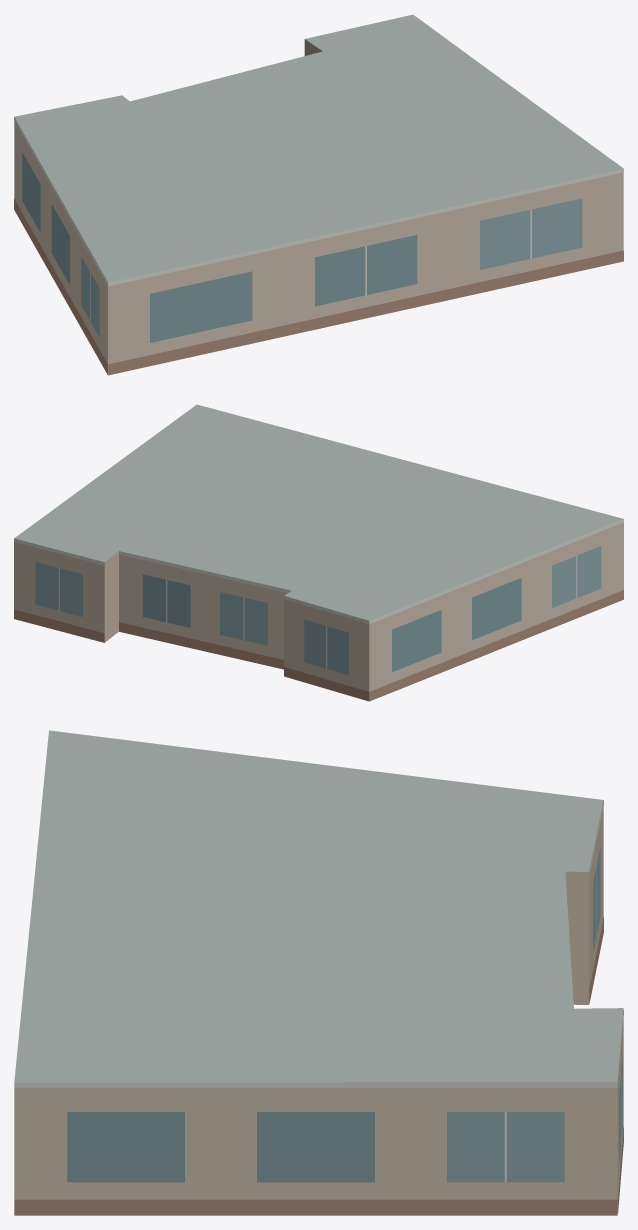
Rendered from survey-upis-33020307.glb.
3 renders of one model, top to bottom at view 1: azimuth 30°, elevation 25°; view 2: azimuth 150°, elevation 25°; view 3: azimuth 270°, elevation 25°, orthographic. The views are drawn at different scales.
Parts seen in each view (by area): view 1: survey-upis-33020307.tmp; view 2: survey-upis-33020307.tmp; view 3: survey-upis-33020307.tmp.
Boxes of the visible parts, x1,y1,x2,y2 form: survey-upis-33020307.tmp: [14, 14, 623, 375]; survey-upis-33020307.tmp: [14, 404, 623, 701]; survey-upis-33020307.tmp: [14, 730, 623, 1215].
Size of the model in its own units: 17.33 by 3.05 by 12.67.
